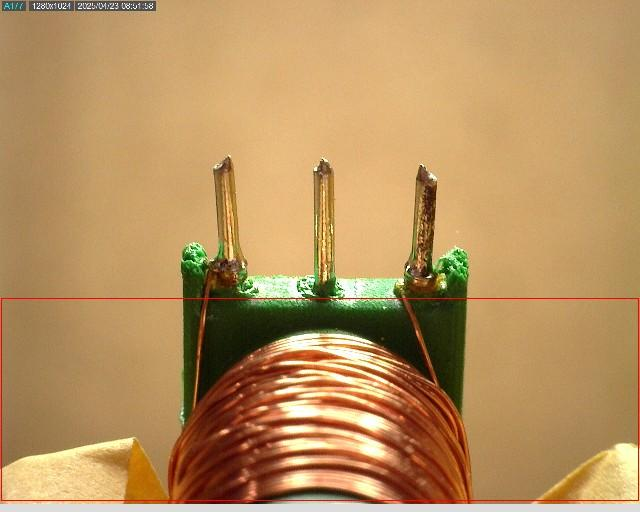bad: (403, 160, 442, 289)
good: (211, 153, 251, 291), (311, 156, 339, 296)
